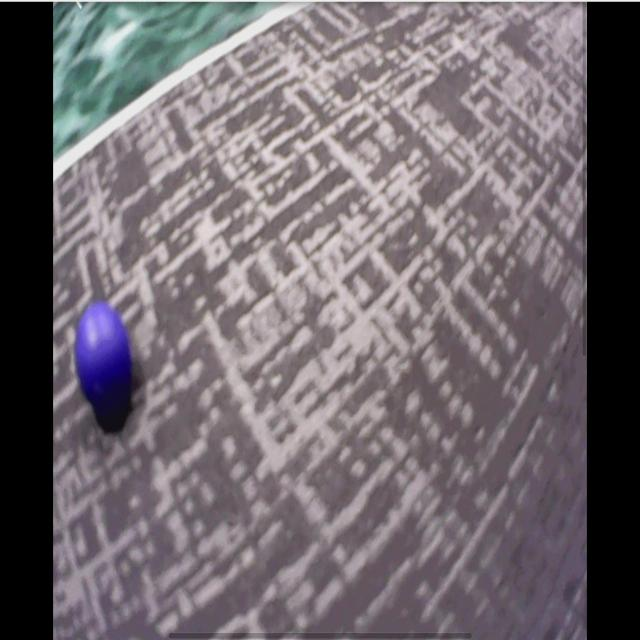ball: (72, 306, 130, 394)
